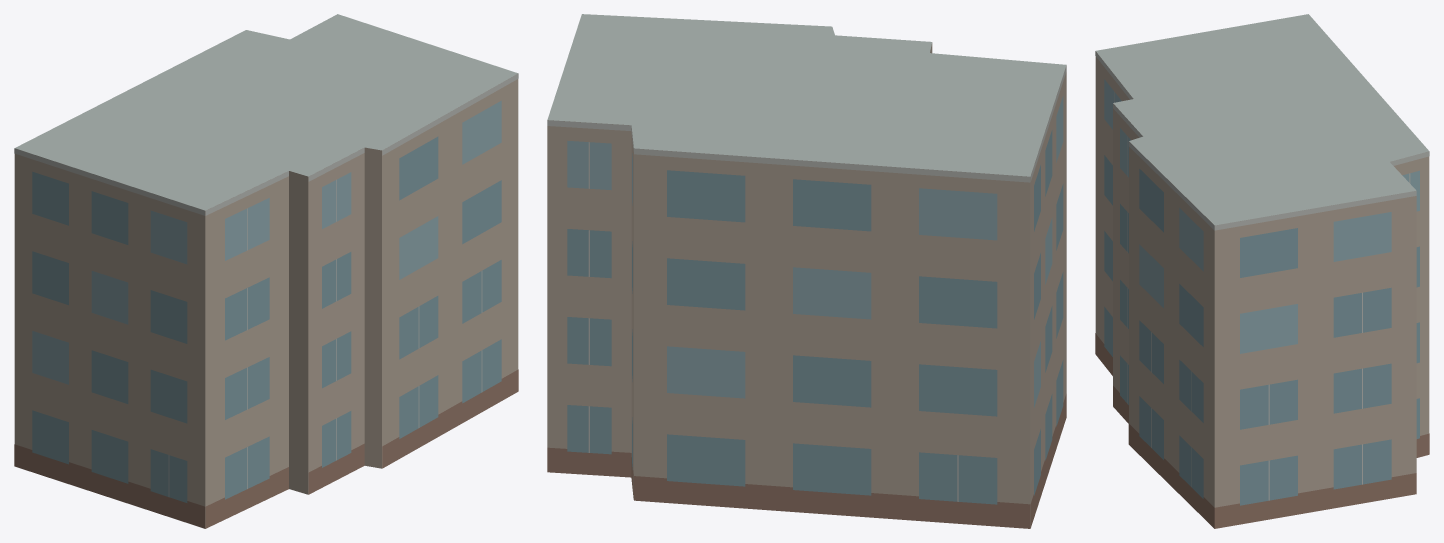
Rendered from survey-upis-32602575.glb.
3 views of the same model, side by side, from view 1: azimuth 30°, elevation 25°; view 2: azimuth 150°, elevation 25°; view 3: azimuth 270°, elevation 25° (orthographic). The views are drawn at different scales.
Visible parts, largest first — view 1: survey-upis-32602575.tmp; view 2: survey-upis-32602575.tmp; view 3: survey-upis-32602575.tmp.
Boxes of the visible parts, box(x1,y1,x2,y2) form: survey-upis-32602575.tmp: box(14, 14, 518, 528); survey-upis-32602575.tmp: box(547, 14, 1066, 528); survey-upis-32602575.tmp: box(1095, 14, 1429, 528).
Bounding box in the file's own units: 21.69 × 14.5 × 14.48.
